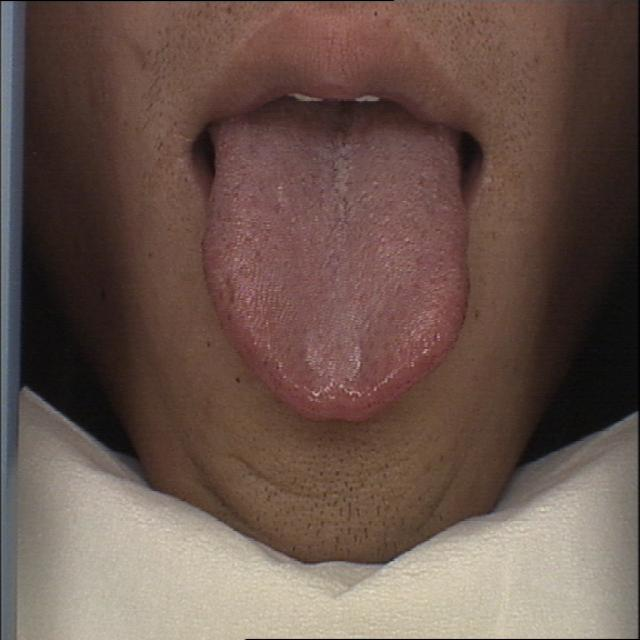tongue: (199, 120, 476, 424)
